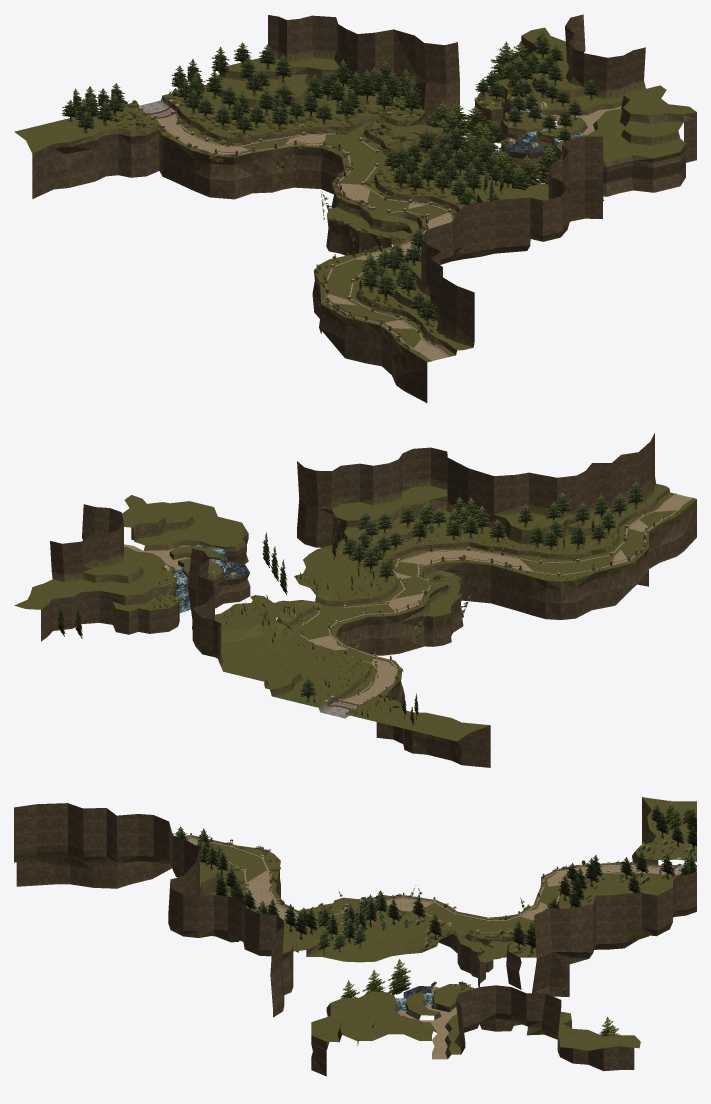
The model's file is PoliceAcademy2.obj.
3 views of the same model, one above another, from view 1: azimuth 30°, elevation 25°; view 2: azimuth 150°, elevation 25°; view 3: azimuth 270°, elevation 25° (orthographic). The views are drawn at different scales.
Parts seen in each view (by area): view 1: Object.213, Object.4, Object.214, Object.87, Object.217, Object.216, Object.105, Object.81, Object.349, Object.94, Object.348, Object.106 (+58 smaller); view 2: Object.9, Object.85, Object.3, Object.87, Object.12, Object.89, Object.2, Object.91, Object.349, Object.105, Object.189, Object.5 (+59 smaller); view 3: Object.2, Object.1, Object.89, Object.85, Object.9, Object.3, Object.349, Object.188, Object.4, Object.94, Object.44, Object.96 (+40 smaller).
Boxes of the visible parts, bbox=[...] form: Object.213: bbox=[183, 46, 568, 325]; Object.4: bbox=[345, 148, 685, 374]; Object.214: bbox=[171, 52, 599, 301]; Object.87: bbox=[455, 197, 530, 249]; Object.217: bbox=[248, 70, 583, 143]; Object.216: bbox=[214, 31, 563, 247]; Object.105: bbox=[32, 140, 105, 198]; Object.81: bbox=[209, 157, 293, 199]; Object.349: bbox=[394, 147, 503, 203]; Object.94: bbox=[278, 15, 346, 63]; Object.348: bbox=[76, 95, 455, 176]; Object.106: bbox=[94, 130, 159, 180]; Object.9: bbox=[81, 513, 531, 617]; Object.85: bbox=[529, 463, 611, 508]; Object.3: bbox=[48, 463, 620, 635]; Object.87: bbox=[447, 458, 516, 508]; Object.12: bbox=[115, 614, 399, 655]; Object.89: bbox=[360, 447, 447, 497]; Object.2: bbox=[216, 433, 654, 607]; Object.91: bbox=[297, 461, 359, 508]; Object.349: bbox=[341, 509, 397, 582]; Object.105: bbox=[413, 728, 490, 767]; Object.189: bbox=[247, 636, 338, 669]; Object.5: bbox=[236, 534, 591, 619]; Object.2: bbox=[14, 803, 449, 1012]; Object.1: bbox=[14, 845, 521, 1031]; Object.89: bbox=[168, 876, 244, 941]; Object.85: bbox=[106, 808, 172, 869]; Object.9: bbox=[276, 878, 545, 1027]; Object.3: bbox=[83, 808, 618, 1071]; Object.349: bbox=[284, 890, 385, 943]; Object.188: bbox=[319, 923, 406, 962]; Object.4: bbox=[84, 849, 329, 1076]; Object.94: bbox=[627, 874, 688, 930]; Object.44: bbox=[311, 1003, 393, 1042]; Object.96: bbox=[593, 893, 641, 944].
Size of the model in its own units: 240 by 46 by 266.
